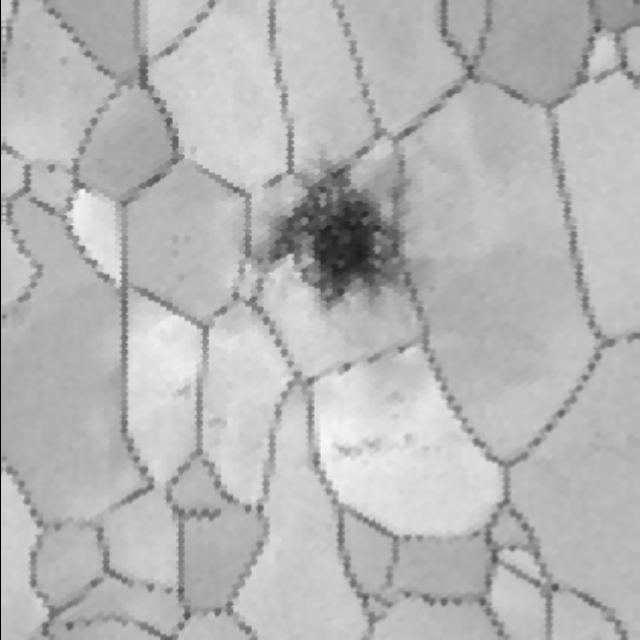good_void: (245, 146, 433, 325), (329, 360, 439, 471), (174, 379, 193, 401), (207, 413, 232, 429)
